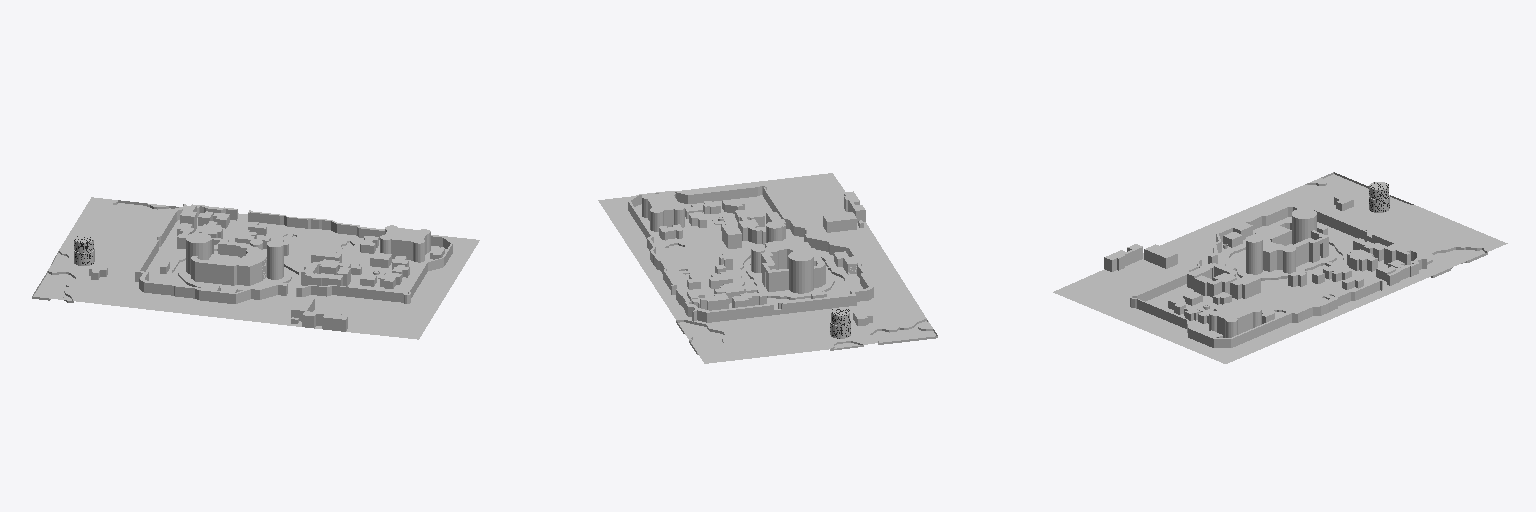
The model's file is falador.obj.
3 views of the same model, side by side, from view 1: azimuth 30°, elevation 25°; view 2: azimuth 150°, elevation 25°; view 3: azimuth 270°, elevation 25° (orthographic).
Size of the model in its own units: 192916 by 18793 by 192982.